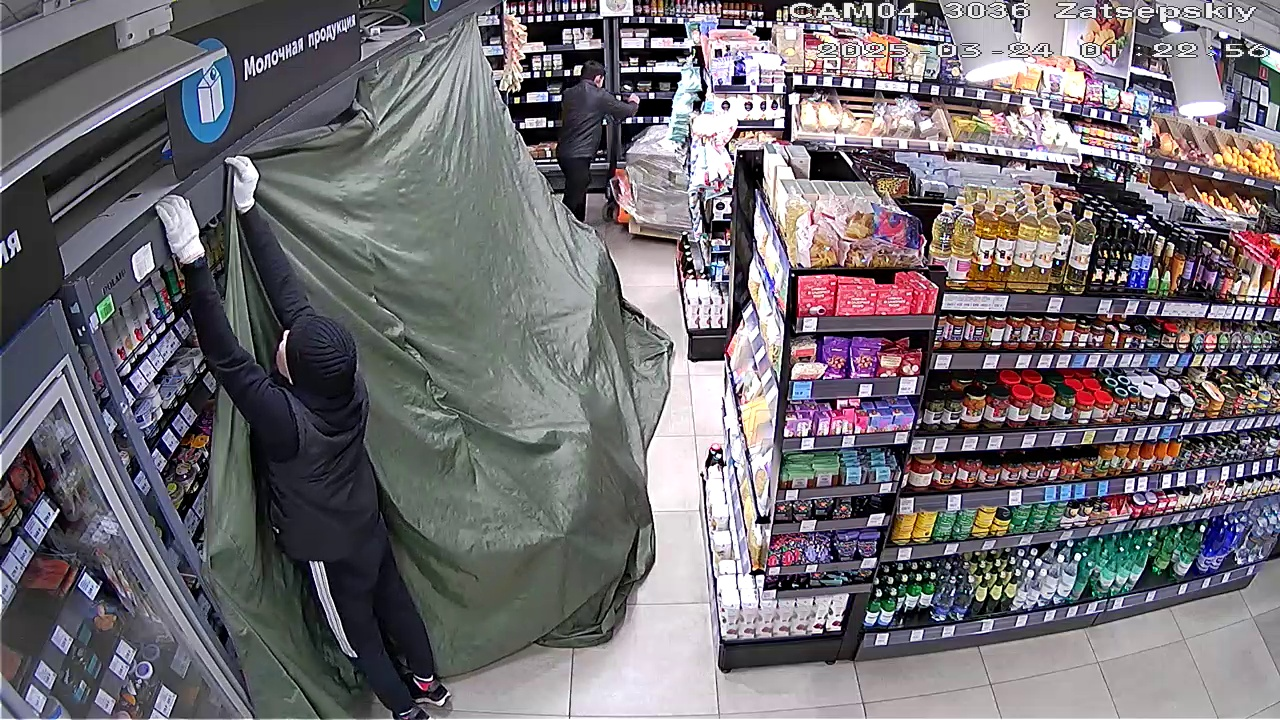Human: (146, 153, 454, 714), (550, 61, 638, 227)
dome: (221, 14, 660, 711)
pallet: (622, 124, 701, 240)
